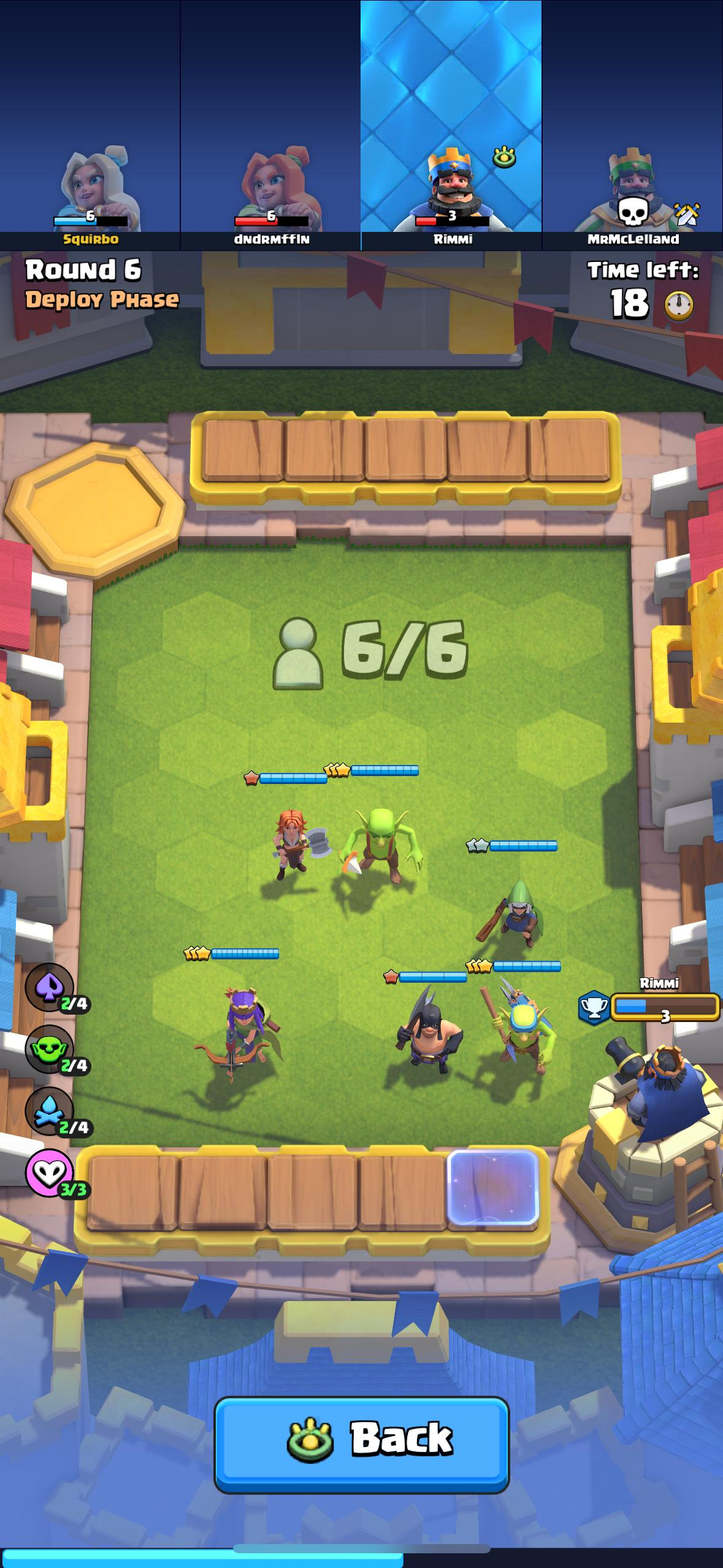bandit: (477, 875, 544, 948)
executioner: (396, 982, 463, 1075)
goblin: (343, 798, 426, 889)
queen: (195, 977, 290, 1075)
spear: (477, 973, 557, 1081)
valkyrie: (271, 807, 329, 878)
